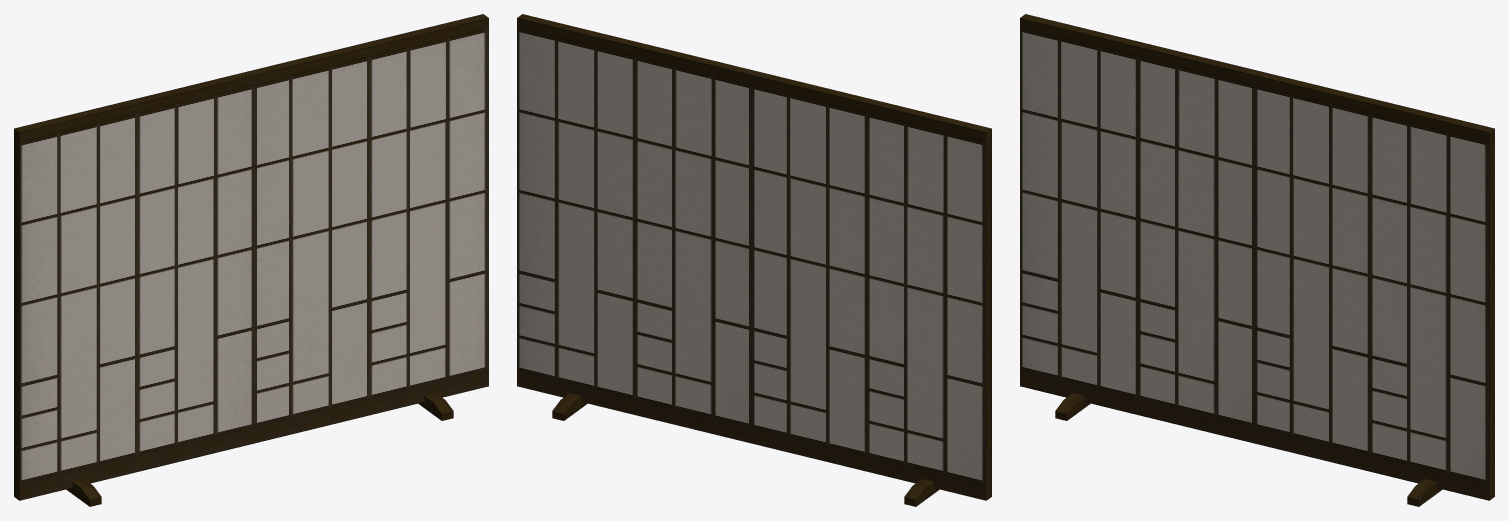
The model's file is Japanese screen.dae.
3 views of the same model, side by side, from view 1: azimuth 30°, elevation 25°; view 2: azimuth 150°, elevation 25°; view 3: azimuth 330°, elevation 25° (orthographic).
Visible parts, largest first — view 1: Japanese screen; view 2: Japanese screen; view 3: Japanese screen.
Boxes of the visible parts, bbox=[...] form: Japanese screen: bbox=[14, 14, 488, 506]; Japanese screen: bbox=[517, 14, 991, 506]; Japanese screen: bbox=[1020, 14, 1494, 506].
Bounding box in the file's own units: 4 × 0.6 × 3.05.
1 material, 1 textured.
